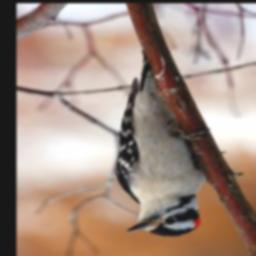Woodpecker: (117, 50, 213, 238)
